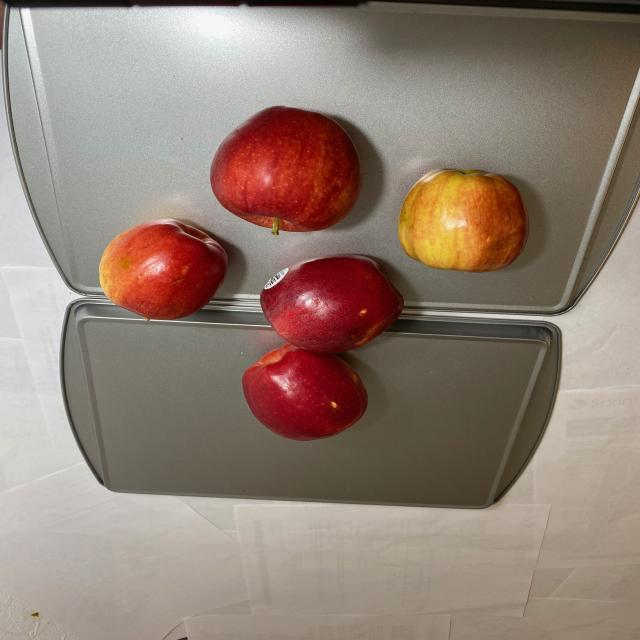apple: (94, 105, 529, 438)
